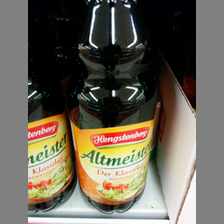vinegar: (68, 1, 163, 214), (27, 26, 78, 215)
